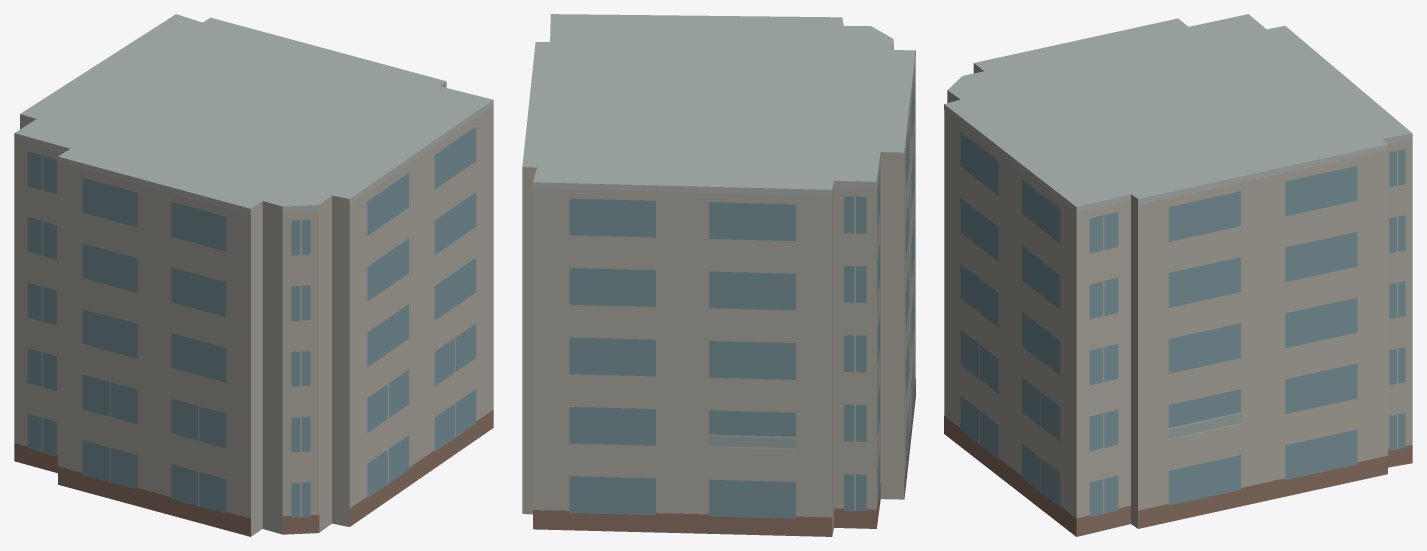
Rendered from survey-upis-32841185.glb.
3 renders of one model, left to right at view 1: azimuth 30°, elevation 25°; view 2: azimuth 150°, elevation 25°; view 3: azimuth 270°, elevation 25°, orthographic. The views are drawn at different scales.
Parts seen in each view (by area): view 1: survey-upis-32841185.tmp; view 2: survey-upis-32841185.tmp; view 3: survey-upis-32841185.tmp.
Boxes of the visible parts, x1,y1,x2,y2 form: survey-upis-32841185.tmp: (14, 14, 493, 536); survey-upis-32841185.tmp: (522, 14, 915, 536); survey-upis-32841185.tmp: (944, 14, 1412, 536).
Size of the model in its own units: 17.21 by 13.7 by 17.65.
